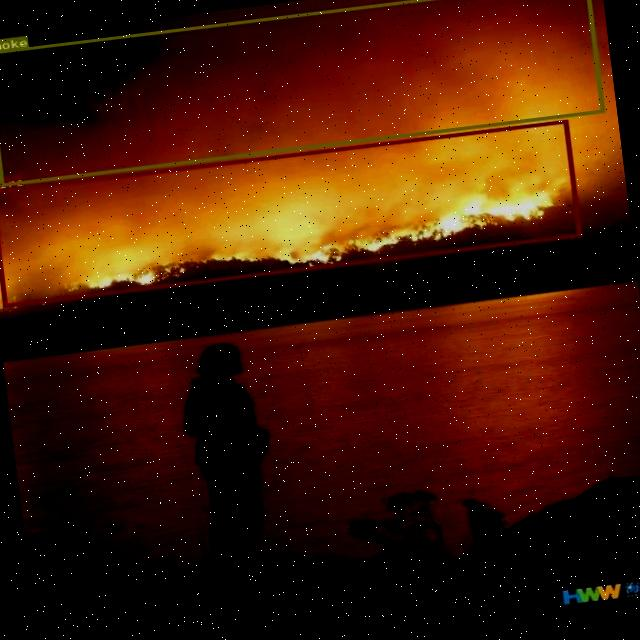fire: (0, 119, 581, 306)
smoke: (0, 0, 603, 185)
